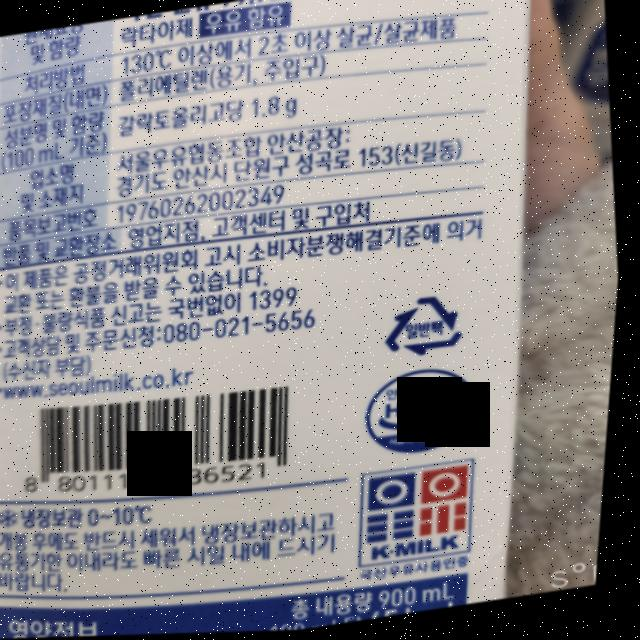NormalPack: (383, 292, 474, 364)
